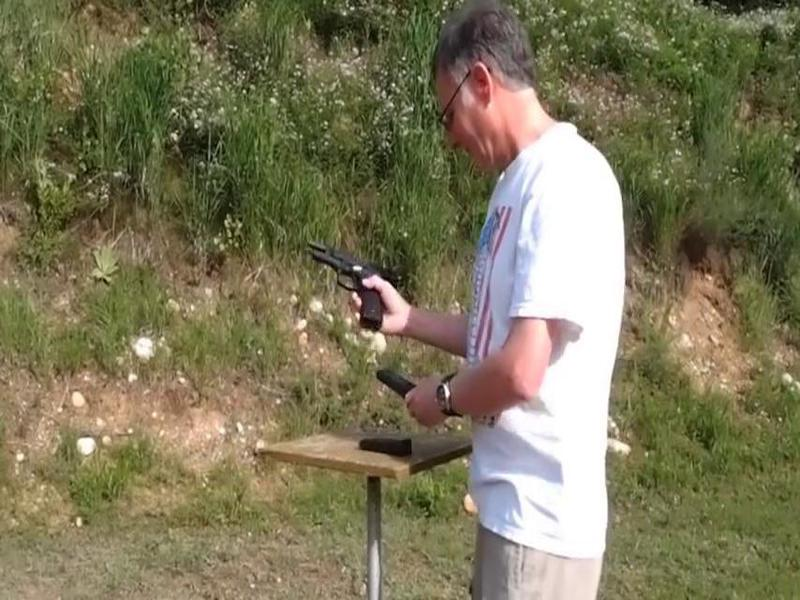Pistola: (295, 229, 397, 354)
